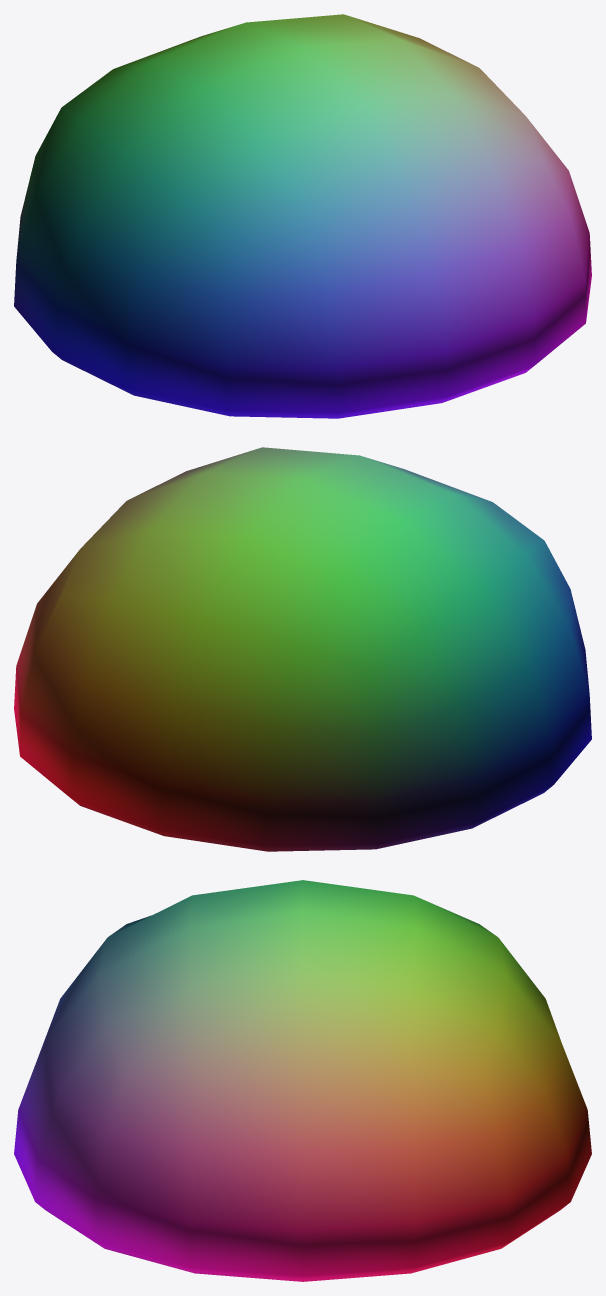
The model's file is MushRoom_Head.fbx.
3 views of the same model, one above another, from view 1: azimuth 30°, elevation 25°; view 2: azimuth 150°, elevation 25°; view 3: azimuth 270°, elevation 25° (orthographic).
Visible parts, largest first — view 1: Mushroom_Head; view 2: Mushroom_Head; view 3: Mushroom_Head.
Boxes of the visible parts, x1,y1,x2,y2 form: Mushroom_Head: [14, 14, 591, 418]; Mushroom_Head: [14, 447, 591, 851]; Mushroom_Head: [14, 880, 591, 1281].
Size of the model in its own units: 1.26 by 0.6077 by 1.26.
